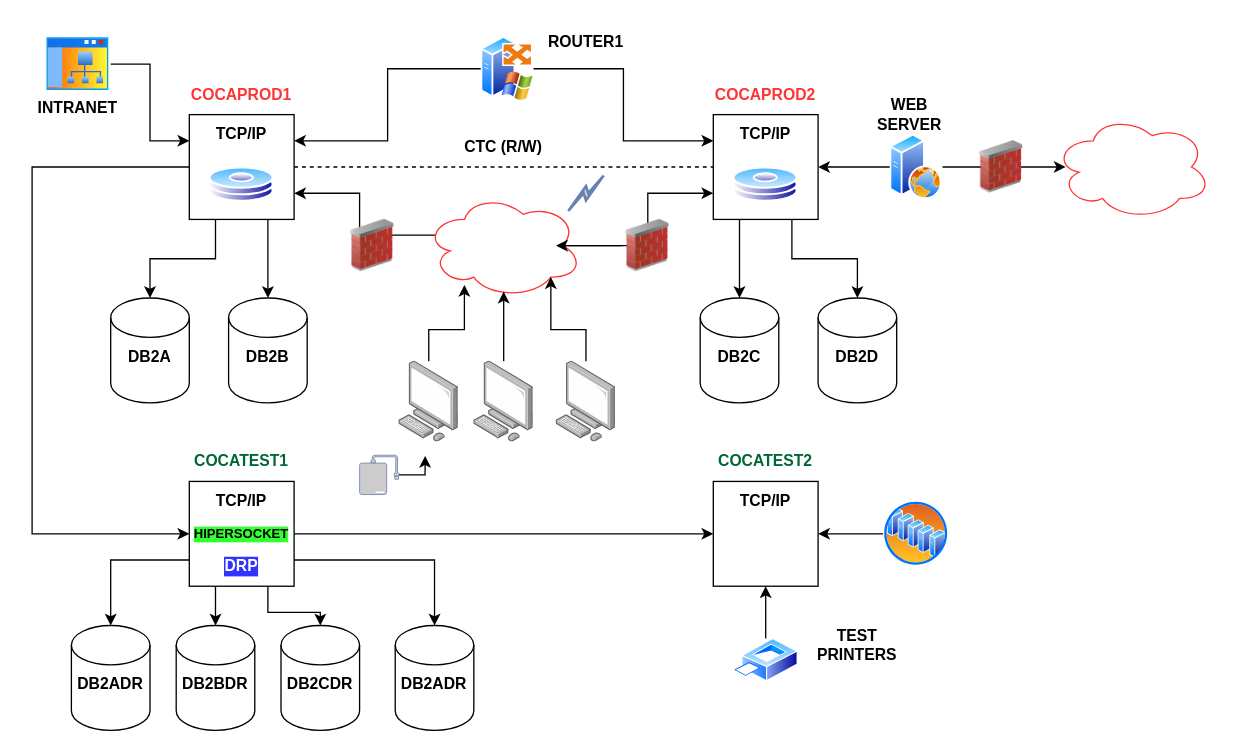
The diagram is 1234 pixels wide and 753 high, and some of its shapes have lost their labels. Each missing label, with the box of its shape:
CLOUD: (1053, 113, 1211, 219)
INTERNET: (424, 192, 582, 298)
